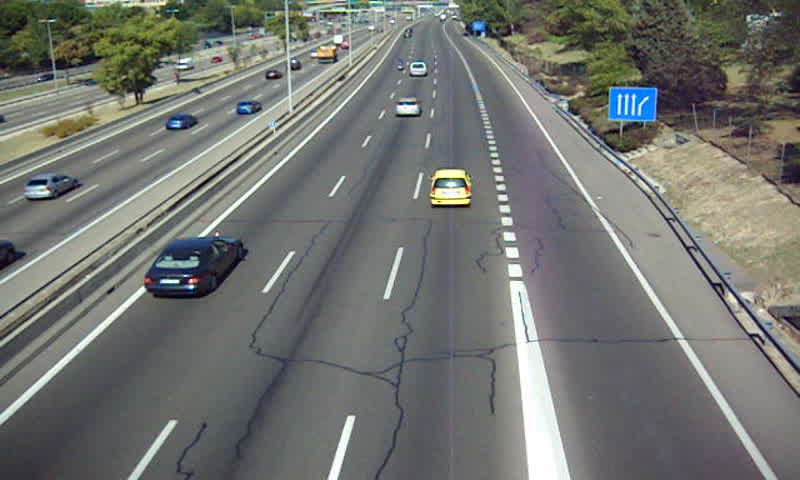car: (145, 238, 242, 297), (432, 169, 474, 205), (395, 96, 421, 118), (409, 61, 428, 78)
